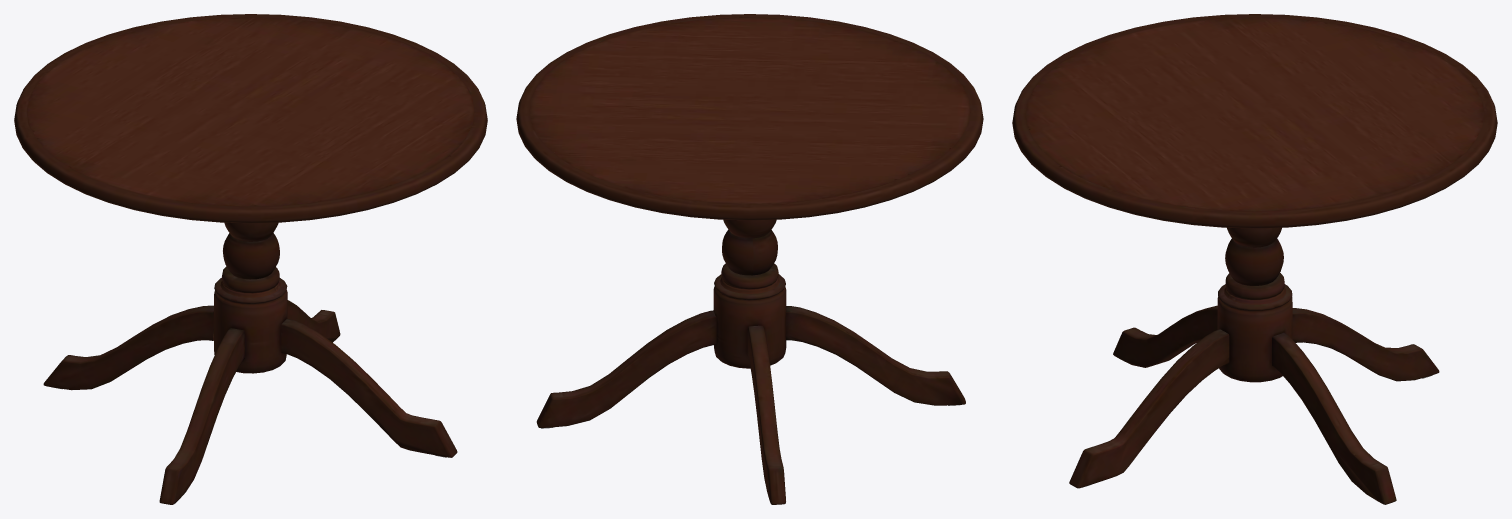
File: round_wooden_table_01.glb
3 views of the same model, side by side, from view 1: azimuth 30°, elevation 25°; view 2: azimuth 150°, elevation 25°; view 3: azimuth 270°, elevation 25° (orthographic). The views are drawn at different scales.
Visible parts, largest first — view 1: round_wooden_table_01; view 2: round_wooden_table_01; view 3: round_wooden_table_01.
Part boxes in pixels (<box>): round_wooden_table_01: <box>14,14,487,504</box>; round_wooden_table_01: <box>516,14,983,504</box>; round_wooden_table_01: <box>1012,14,1497,504</box>.
Bounding box in the file's own units: 1.4 × 1 × 1.4.
Materials: 1 (1 with a texture image).
